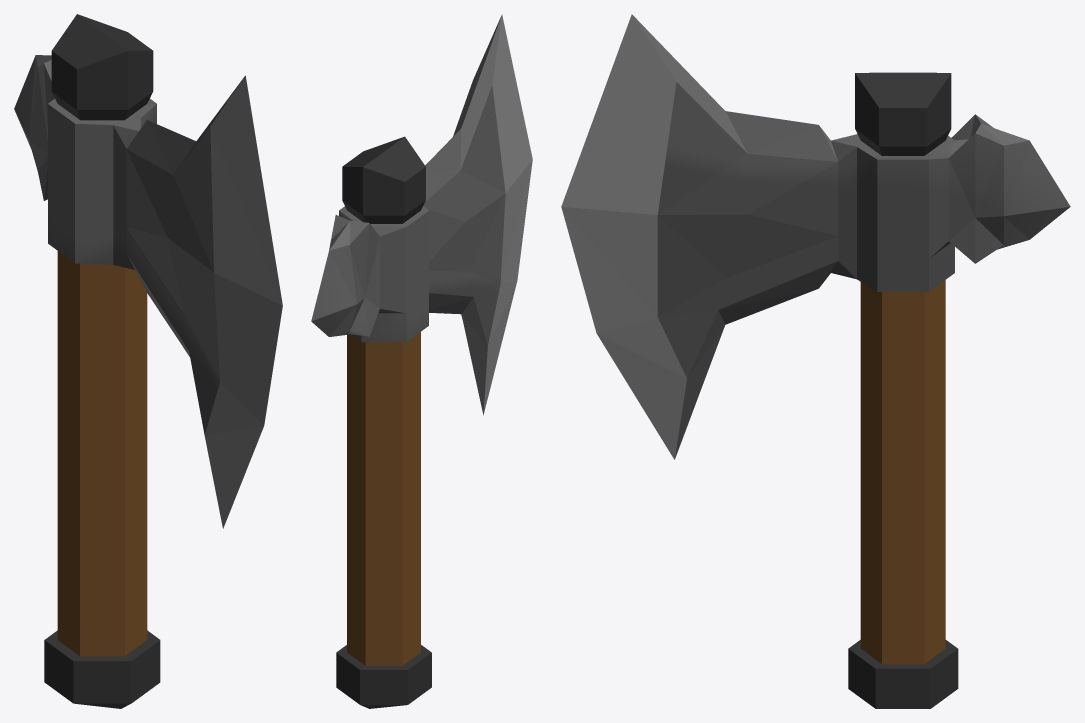
Rendered from Hero_Axe.fbx.
The picture shows the model from 3 angles, left to right: view 1: azimuth 30°, elevation 25°; view 2: azimuth 150°, elevation 25°; view 3: azimuth 270°, elevation 25°; orthographic projection. The views are drawn at different scales.
Visible parts, largest first — view 1: Axe; view 2: Axe; view 3: Axe.
Boxes of the visible parts, x1=… form: Axe: x1=14, y1=14, x2=282, y2=708; Axe: x1=311, y1=14, x2=532, y2=708; Axe: x1=561, y1=14, x2=1070, y2=708.
Size of the model in its own units: 0.1121 by 0.888 by 0.6001.
